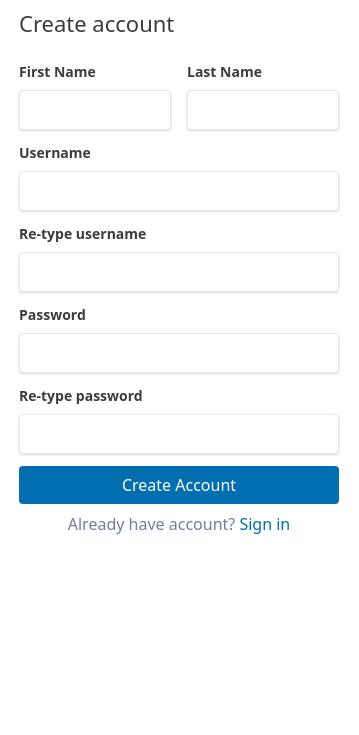
Scenario: Signup › ensure password and retype password field has same value [FALSY]
The image size is (359, 735).
In the password field with test id "datatest-password": (179, 353) [19,333,339,373], type "Test123)"
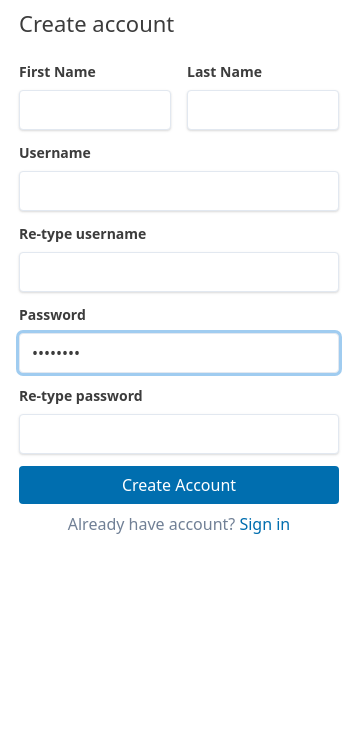
In the password field with test id "datatest-confirmPassword": (179, 434) [19,414,339,454], type "jonhdoe123"
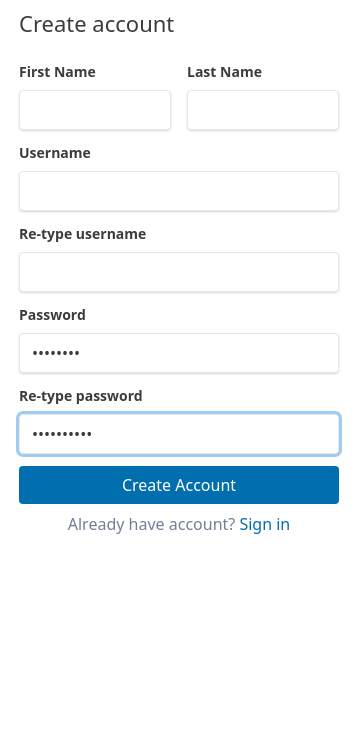
Click the button "Create Account": (179, 485) [19,466,339,504]
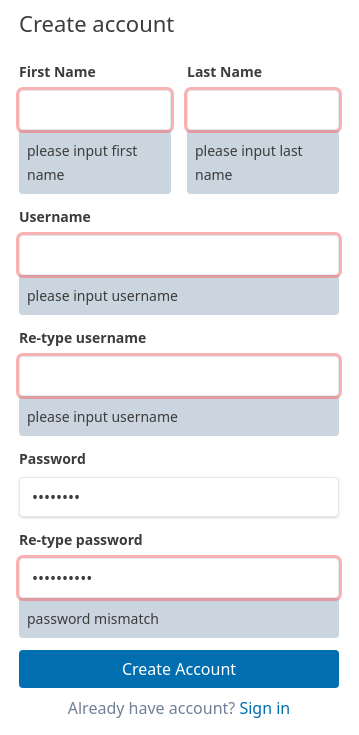
Expected: the element with test id "signup-step" shows "password mismatch", [27,609,159,628]
